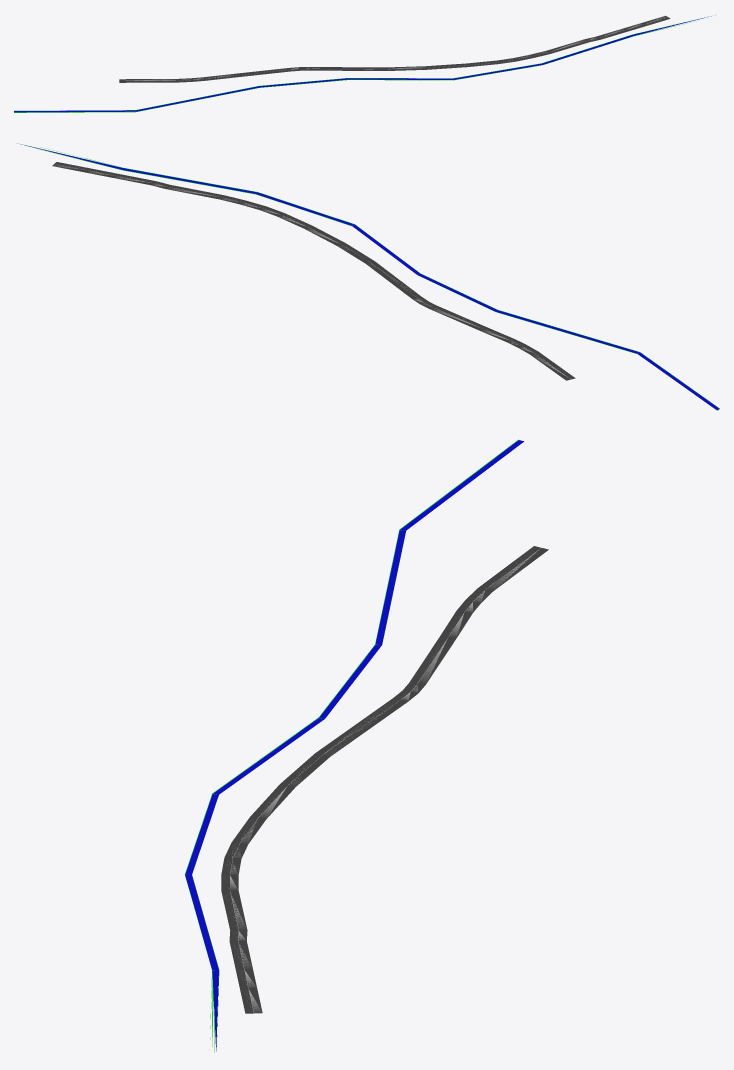
3 views of the same model, one above another, from view 1: azimuth 30°, elevation 25°; view 2: azimuth 150°, elevation 25°; view 3: azimuth 270°, elevation 25° (orthographic). The views are drawn at different scales.
Bounding box in the file's own units: 594 × 1 × 149.
